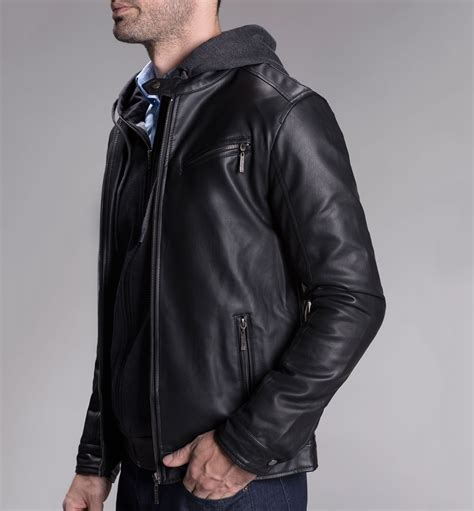cuero: (75, 25, 386, 477)
